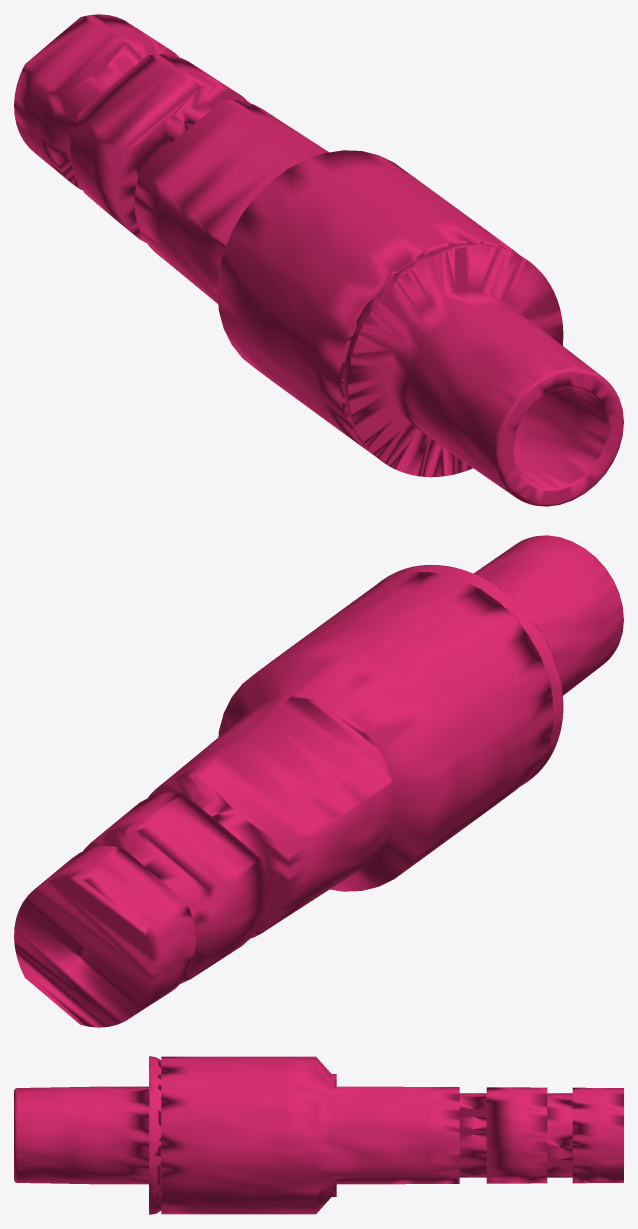
Rendered from implant_4.5p.obj.
3 views of the same model, one above another, from view 1: azimuth 30°, elevation 25°; view 2: azimuth 150°, elevation 25°; view 3: azimuth 270°, elevation 25° (orthographic). The views are drawn at different scales.
Size of the model in its own units: 4.7 by 4.7 by 18.08.
